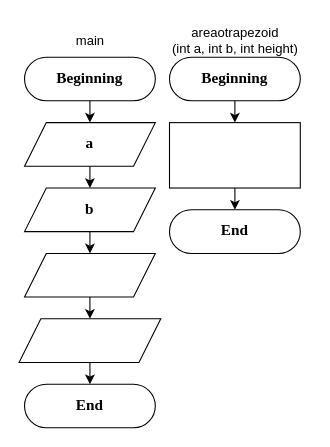
This 330x447 diagram has some shape labels left out. Here are the shapes that lost their labels. From the top down, the centre of each, then its label:
At (234,155): "return 0.5 * (a + b) * height".
At (89,274): "height".
At (89,340): "areaoftrapezoid (a ,b , height)".
